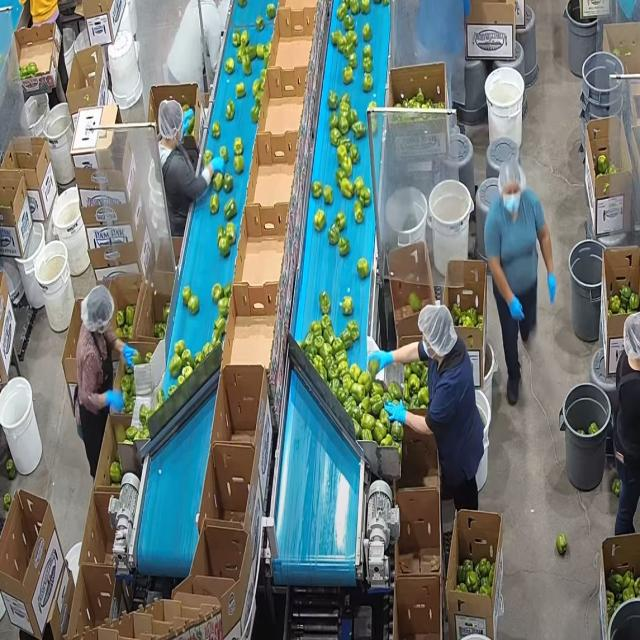gloved_hand: (362, 346, 400, 376), (382, 393, 410, 429), (505, 290, 528, 323), (101, 387, 126, 415), (120, 338, 141, 371), (544, 270, 560, 303), (207, 152, 228, 177), (180, 107, 194, 142)
